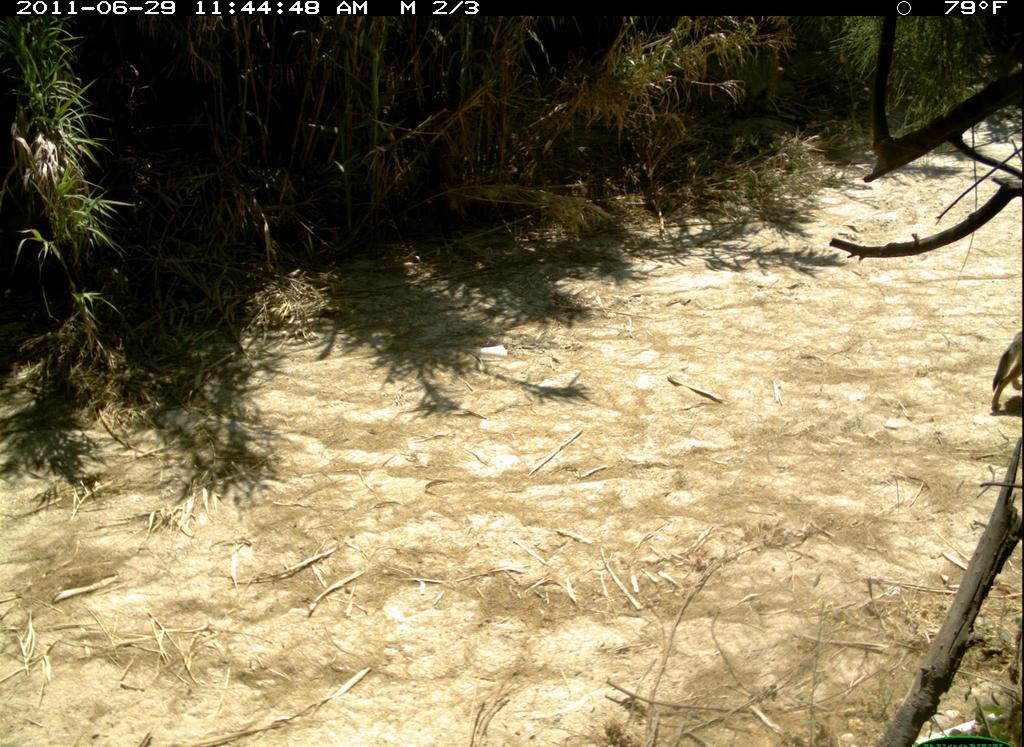coyote: (989, 310, 1023, 422)
